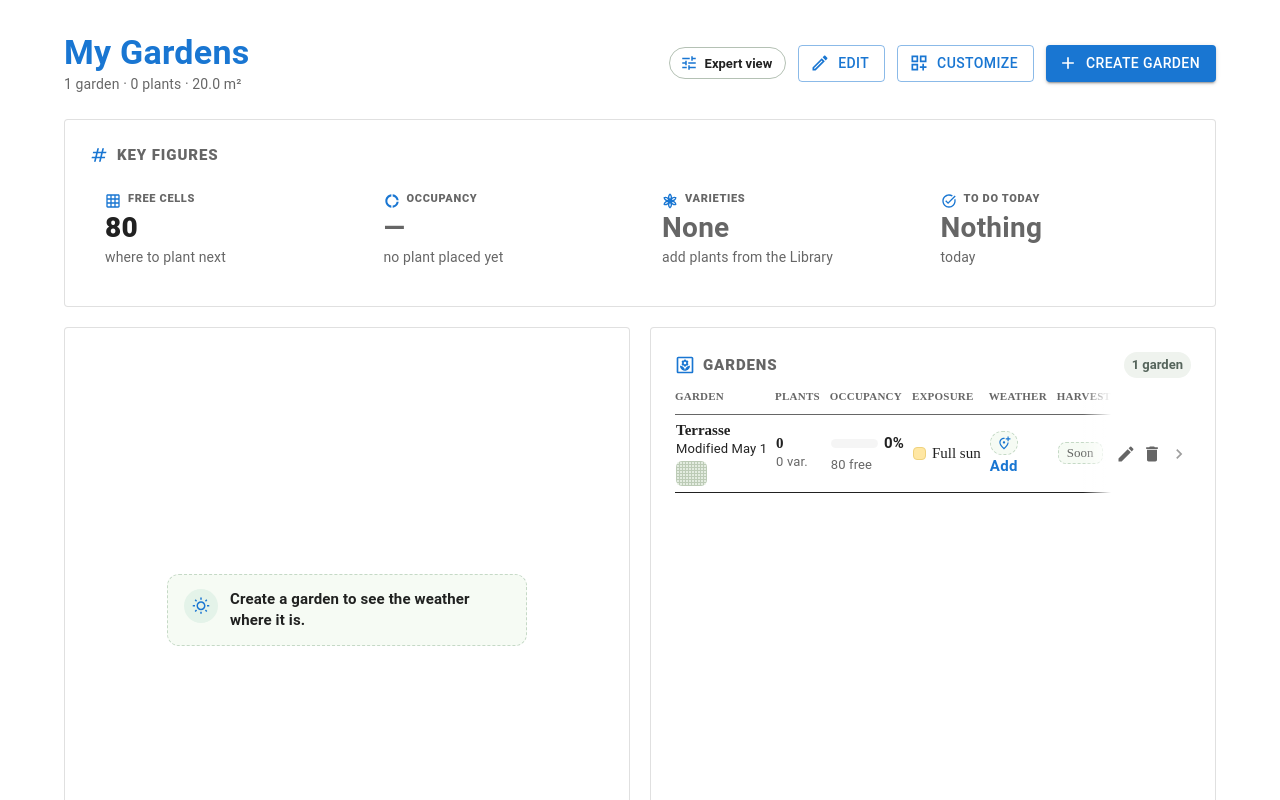
Test case: the band’s gear — four emplacements, « Toujours quatre » › lists the four figures, numbered in the order of the tiles, each with its value
This screenshot has width=1280, height=800.
Click the button "Edit": (842, 63) [798, 45, 885, 82]
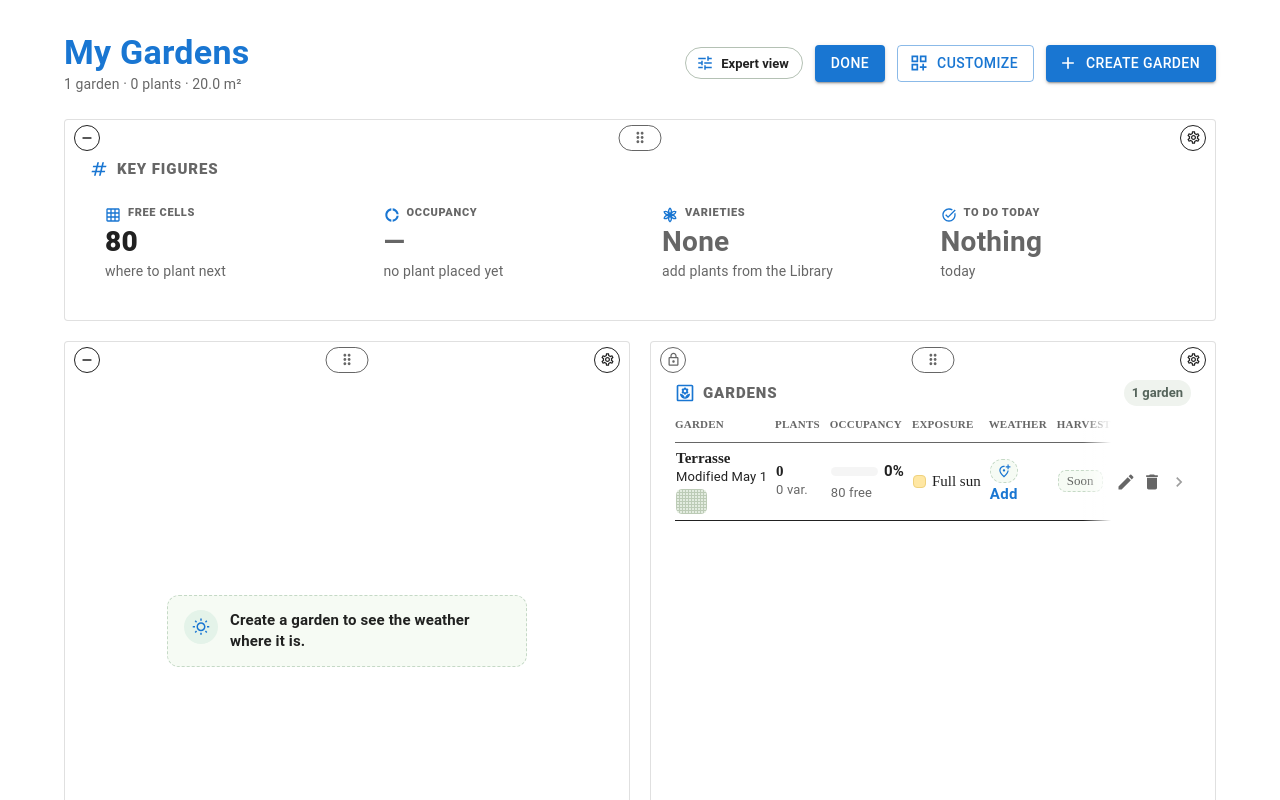
Click the button named "Key figures options": (1193, 138) [1180, 125, 1206, 151]
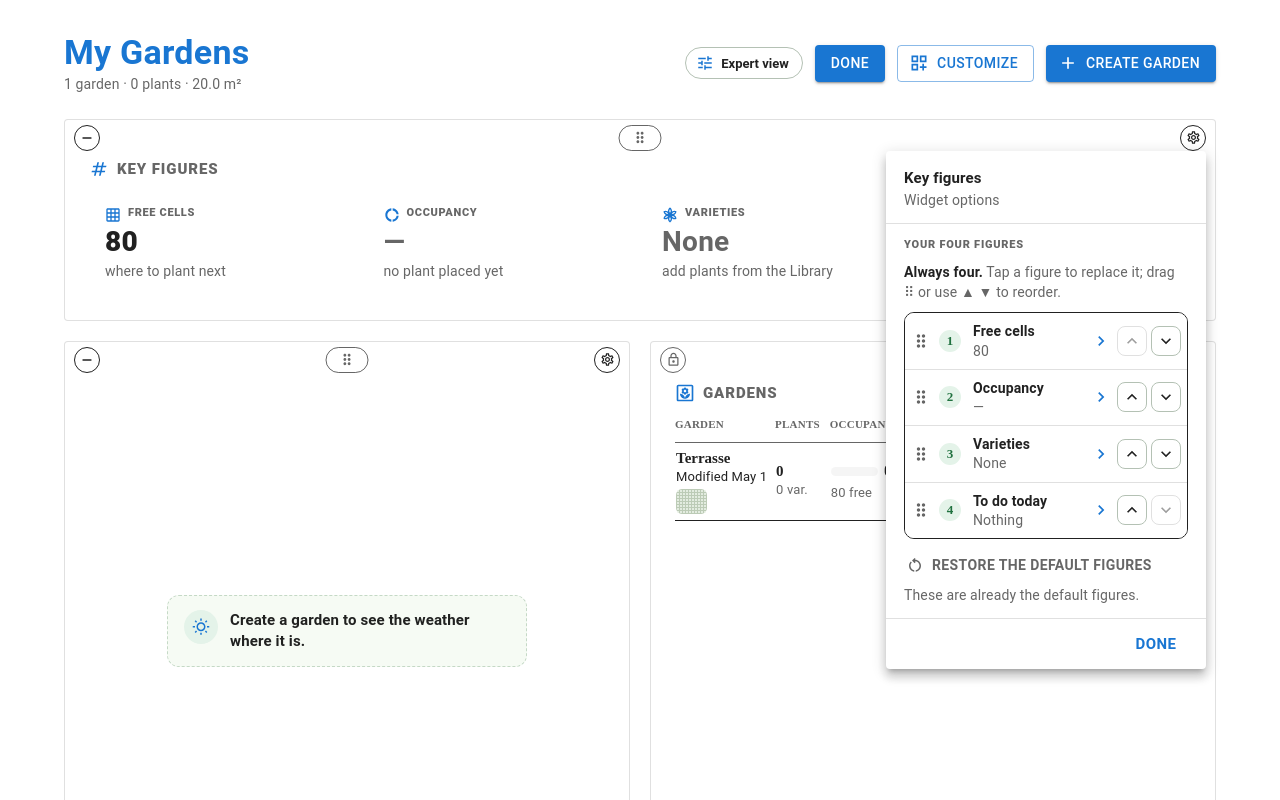
expect the text "80" is shown: met, box [973, 343, 989, 359]
expect the heading "Your four figures" is shown: met, box [904, 238, 1024, 250]
expect the text "Always four." is shown: met, box [904, 264, 983, 280]
